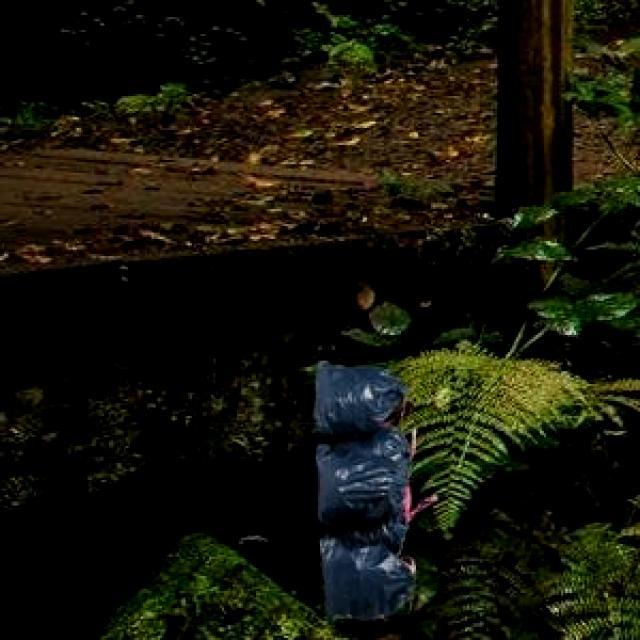Trashbag: (306, 428, 409, 534), (317, 528, 423, 624), (309, 355, 414, 439)
